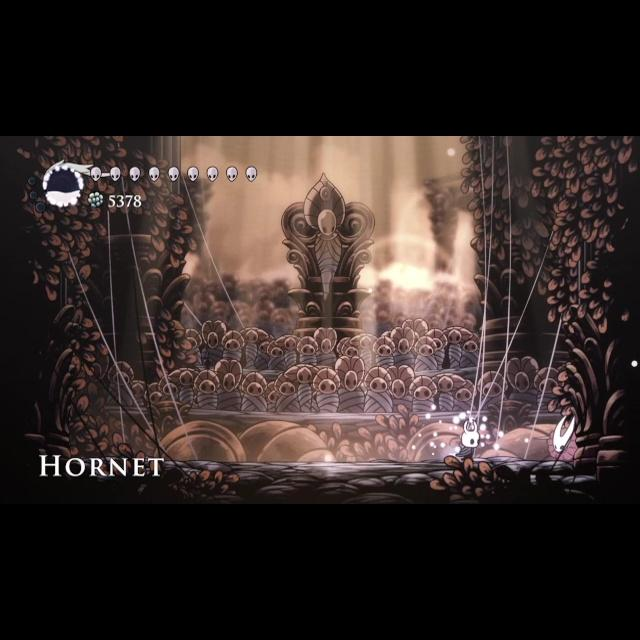EnemyLeadIn: (534, 414, 592, 464)
Player: (452, 421, 486, 462)
